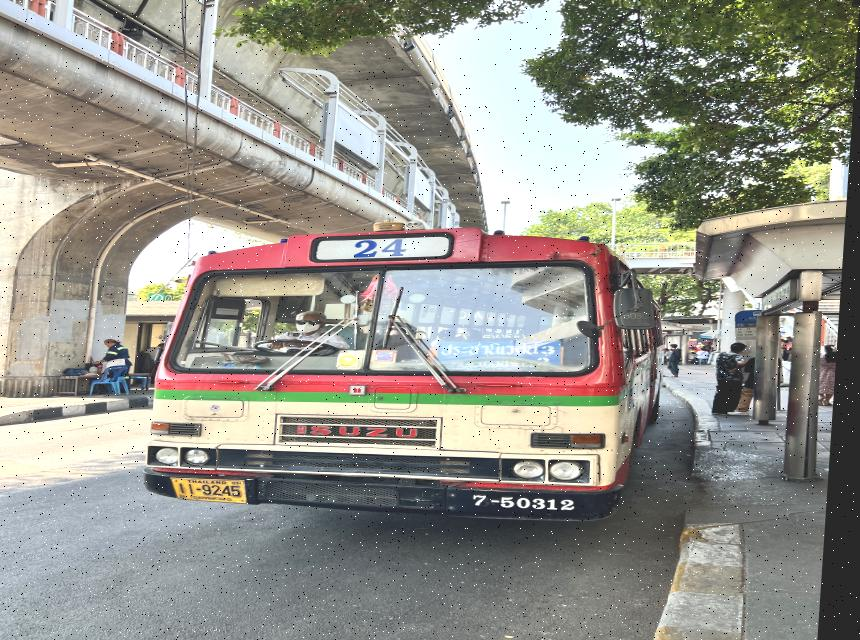BMTA-bus: (149, 228, 668, 523)
Bus Line Number: (313, 233, 461, 263)
Bus Side Number: (472, 493, 590, 513)
Destination Sign: (438, 342, 570, 371)
